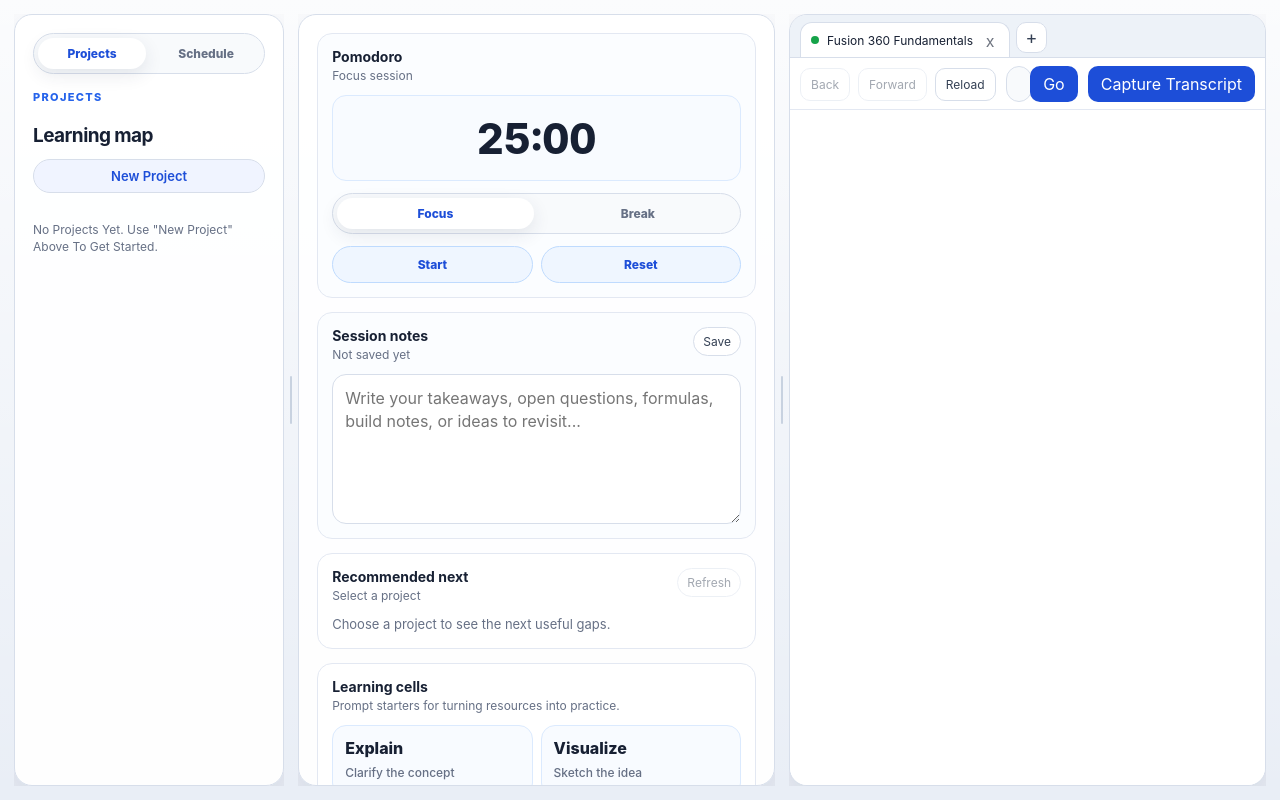
Test case: App › shows transcript capture controls on Udemy lecture pages
Click the button "Capture Transcript".
click(1171, 84)  # box [1088,66,1255,102]
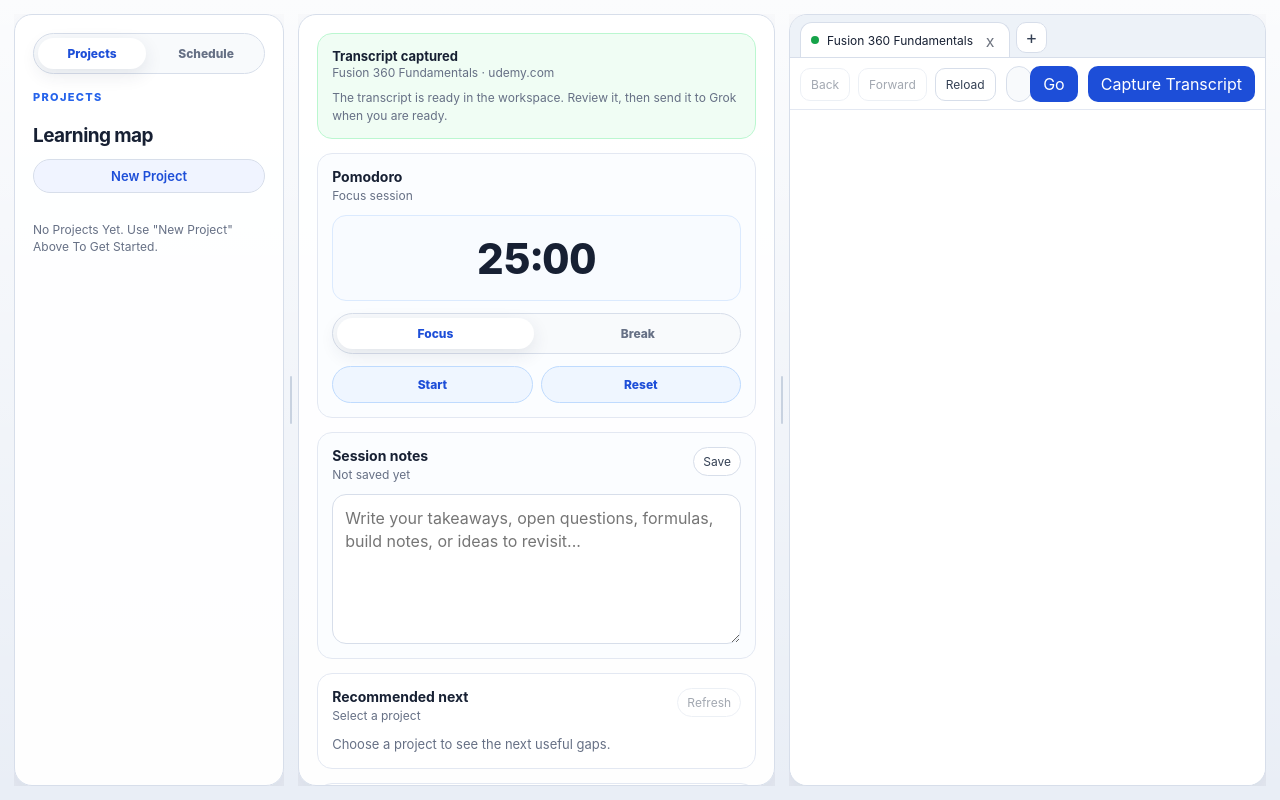
Check: the text "Transcript captured" is shown, box [332,48,458,64]
Check: the text "Fusion 360 Fundamentals · udemy.com" is shown, box [332,65,554,80]
